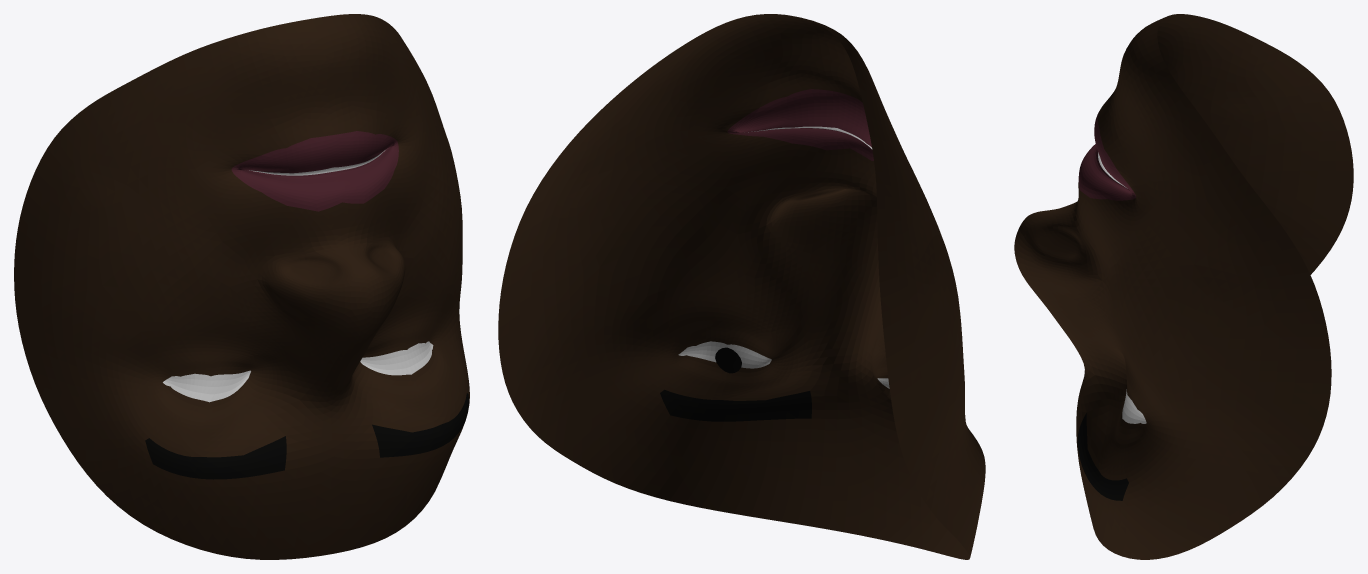
The model's file is VID-20250515-WA0003_f_00009.obj.
The picture shows the model from 3 angles, left to right: view 1: azimuth 30°, elevation 25°; view 2: azimuth 150°, elevation 25°; view 3: azimuth 270°, elevation 25°; orthographic projection. The views are drawn at different scales.
Parts seen in each view (by area): view 1: face_mesh_subdivided; view 2: face_mesh_subdivided; view 3: face_mesh_subdivided.
Part boxes in pixels (x1,y1,x2,y2): face_mesh_subdivided: (14, 14, 469, 559); face_mesh_subdivided: (498, 14, 985, 559); face_mesh_subdivided: (1014, 14, 1353, 559).
Size of the model in its own units: 0.4551 by 0.5617 by 0.3536.
